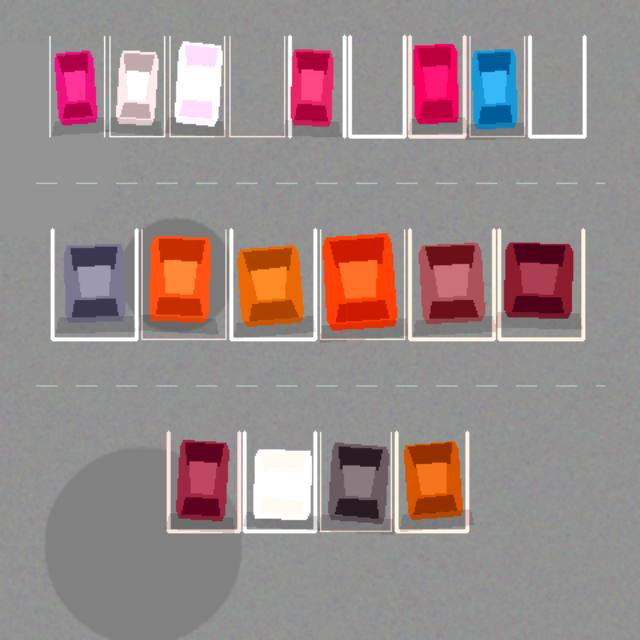space-empty: (229, 36, 284, 136), (349, 36, 404, 136), (529, 36, 584, 136)
space-occupied: (52, 229, 136, 339), (141, 229, 225, 339), (231, 229, 315, 339), (320, 229, 404, 339), (409, 229, 493, 339), (499, 229, 583, 339), (168, 432, 239, 531), (244, 432, 315, 531), (320, 432, 391, 531), (396, 432, 467, 531), (49, 36, 104, 136), (109, 36, 164, 136), (169, 36, 224, 136), (289, 36, 344, 136), (409, 36, 464, 136), (469, 36, 524, 136)
